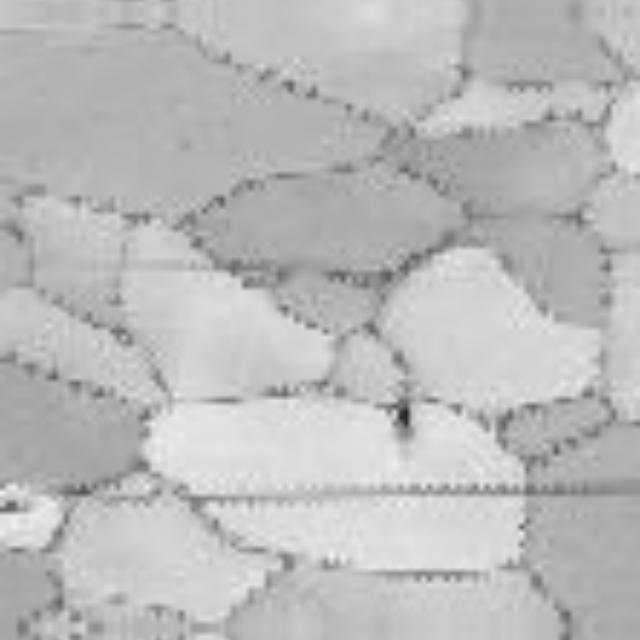good_void: (388, 390, 416, 435)
